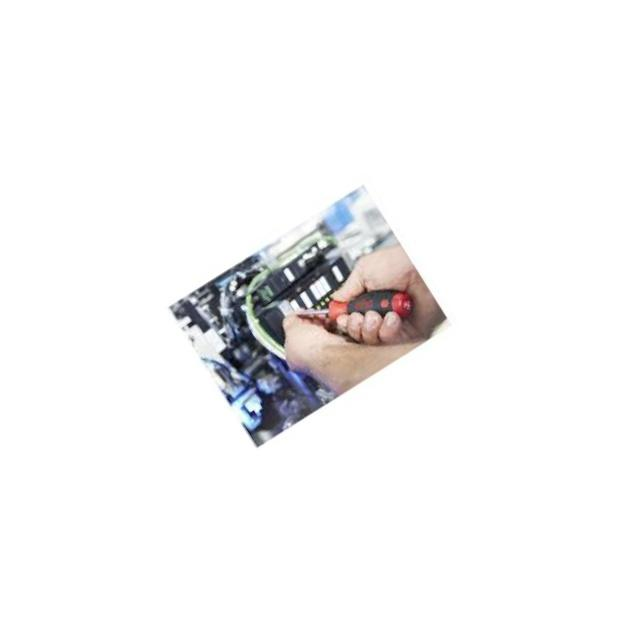screwdriver: (285, 250, 420, 371)
